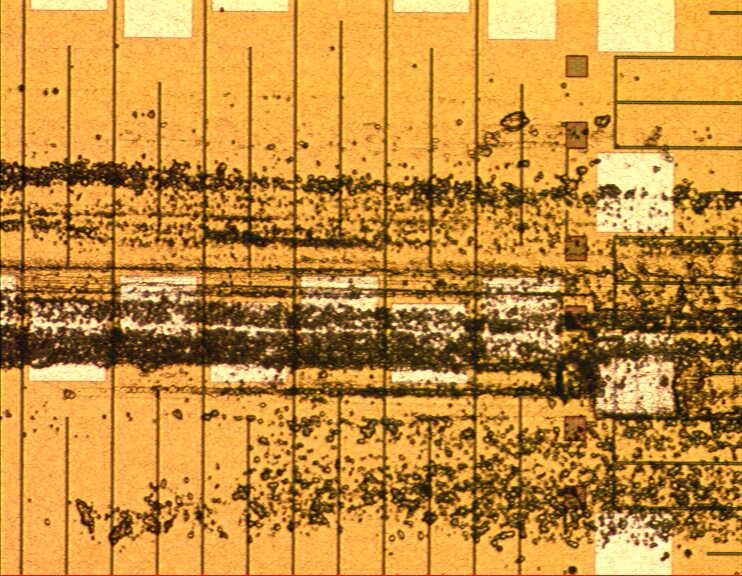PO CONTAMINATION: (1, 5, 742, 576)
